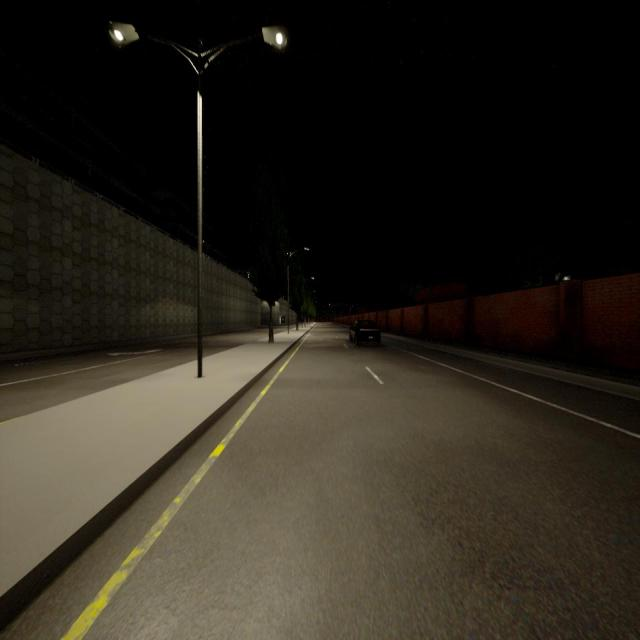Vehicle: (350, 319, 380, 345)
